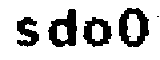0: (116, 6, 152, 49)
d: (44, 8, 80, 51)
o: (81, 14, 112, 49)
s: (12, 17, 41, 48)
